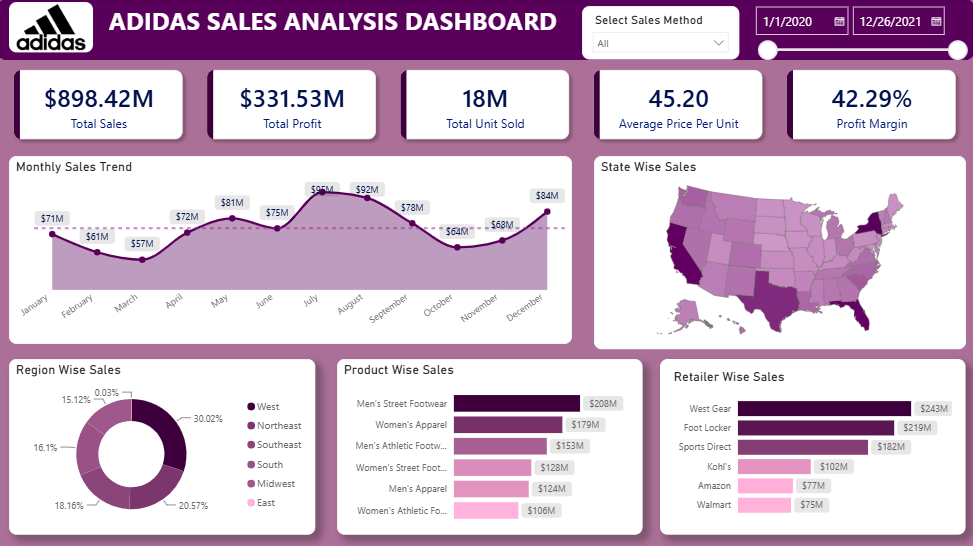

Layout of this report page (visuals, bound fields, positions):
{"tool":"powerbi","page":{"name":"Page 1","canvas":[1280,720],"ordinal":0},"visuals":[{"type":"shape","box":[0,0,1280,80],"z":0},{"type":"image","box":[15.7,4.3,110,65.7],"z":1000},{"type":"textbox","box":[141.4,0,624.3,70],"z":2000},{"type":"cardVisual","fields":{"Data":["KPI.Total Sales","Data Set.Total Profit","Data Set.Total Unit Sold","Data Set.Average Price Per Unit","Data Set.Profit Margin"]},"box":[0,70.6,1280.2,135.4],"z":3000},{"type":"areaChart","title":"Monthly Sales Trend","fields":{"Category":["Data Set.Invoice Date.Variation.Date Hierarchy.Month"],"Y":["KPI.Total Sales"]},"box":[15.8,205.9,737.3,246.2],"z":4000},{"type":"donutChart","title":"Region Wise Sales","fields":{"Y":["KPI.Total Sales"],"Category":["Data Set.Region"]},"box":[15.7,471.4,401.4,230],"z":5000},{"type":"shapeMap","title":"State Wise Sales","fields":{"Value":["KPI.Total Sales"],"Category":["Data Set.State"]},"box":[781.4,205.7,487.1,252.9],"z":7000},{"type":"barChart","title":"Product Wise Sales","fields":{"Y":["KPI.Total Sales"],"Category":["Data Set.Product"]},"box":[445.7,471.4,400,230],"z":8000},{"type":"barChart","title":"Retailer Wise Sales","fields":{"Y":["KPI.Total Sales"],"Category":["Data Set.Retailer"]},"box":[868.6,471.4,400,230],"z":9000},{"type":"slicer","fields":{"Values":["Data Set.Sales Method"]},"box":[765.7,8.6,205.7,70],"z":10000},{"type":"slicer","fields":{"Values":["Data Set.Invoice Date"]},"box":[980,0,300,87.1],"z":11000}]}

Visuals, with their boxes in screenshot pixels (x1, y1, x2, y2), scaled from the page's 1280x720 canvas onto the 973x546 screenshot:
shape: <bbox>0, 0, 972, 61</bbox>
image: <bbox>12, 3, 96, 53</bbox>
textbox: <bbox>107, 0, 582, 53</bbox>
cardVisual - KPI.Total Sales x Data Set.Total Profit: <bbox>0, 54, 972, 156</bbox>
"Monthly Sales Trend" areaChart: <bbox>12, 156, 572, 343</bbox>
"Region Wise Sales" donutChart: <bbox>12, 357, 317, 532</bbox>
"State Wise Sales" shapeMap: <bbox>594, 156, 964, 348</bbox>
"Product Wise Sales" barChart: <bbox>339, 357, 643, 532</bbox>
"Retailer Wise Sales" barChart: <bbox>660, 357, 964, 532</bbox>
slicer - Data Set.Sales Method: <bbox>582, 7, 738, 60</bbox>
slicer - Data Set.Invoice Date: <bbox>745, 0, 972, 66</bbox>
